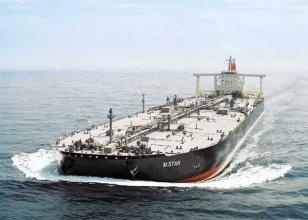Cargoship: (58, 50, 276, 181)
